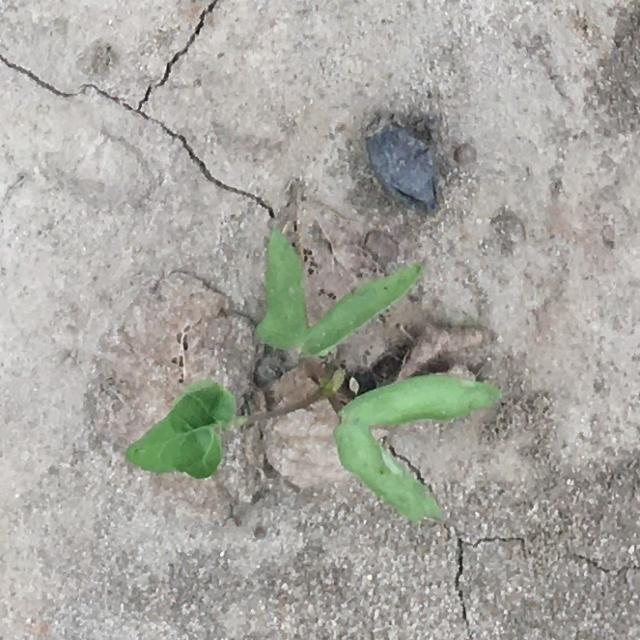MorningGlory: (124, 227, 504, 526)
